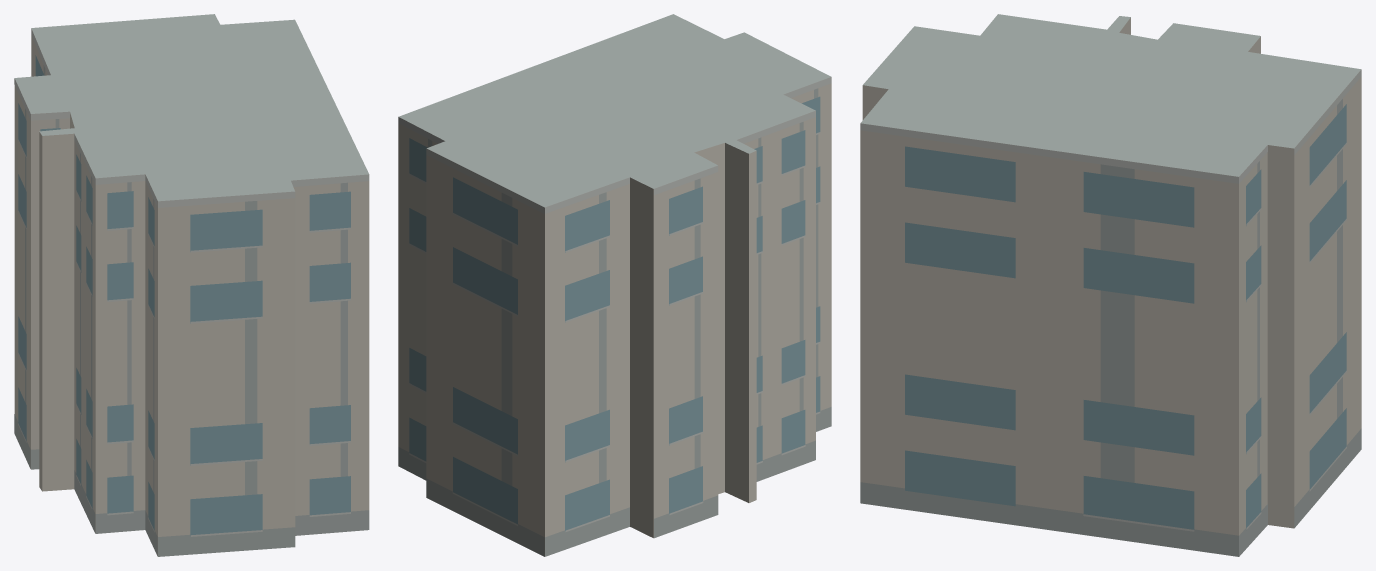
File: survey-upis-32995763.glb
3 views of the same model, side by side, from view 1: azimuth 30°, elevation 25°; view 2: azimuth 150°, elevation 25°; view 3: azimuth 270°, elevation 25° (orthographic). The views are drawn at different scales.
Visible parts, largest first — view 1: survey-upis-32995763.tmp; view 2: survey-upis-32995763.tmp; view 3: survey-upis-32995763.tmp.
Part boxes in pixels (x1=…): survey-upis-32995763.tmp: x1=14, y1=14, x2=369, y2=556; survey-upis-32995763.tmp: x1=398, y1=14, x2=831, y2=556; survey-upis-32995763.tmp: x1=860, y1=14, x2=1361, y2=556.
Bounding box in the file's own units: 12.05 × 13.1 × 15.67.
